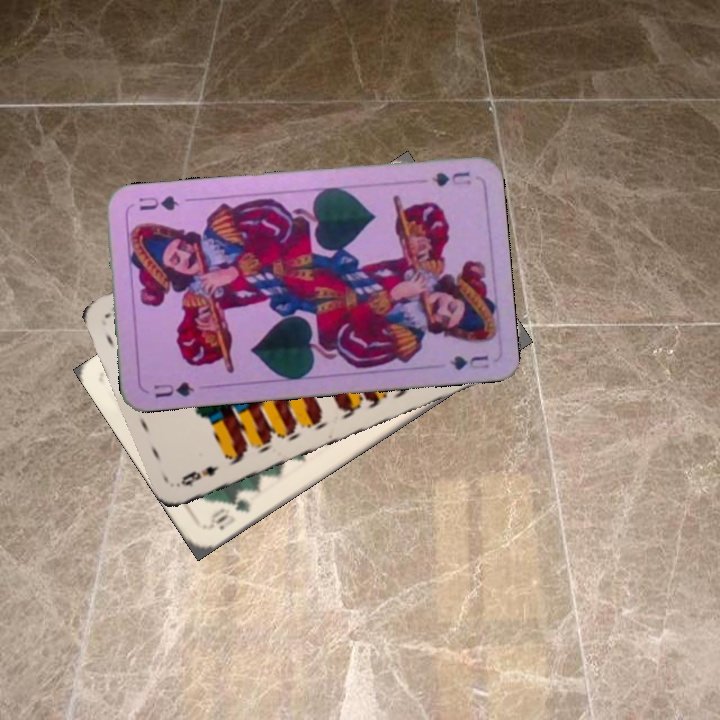E9: (177, 461, 222, 490)
G10: (205, 494, 253, 532)
GU: (150, 378, 197, 400), (428, 167, 474, 189)
